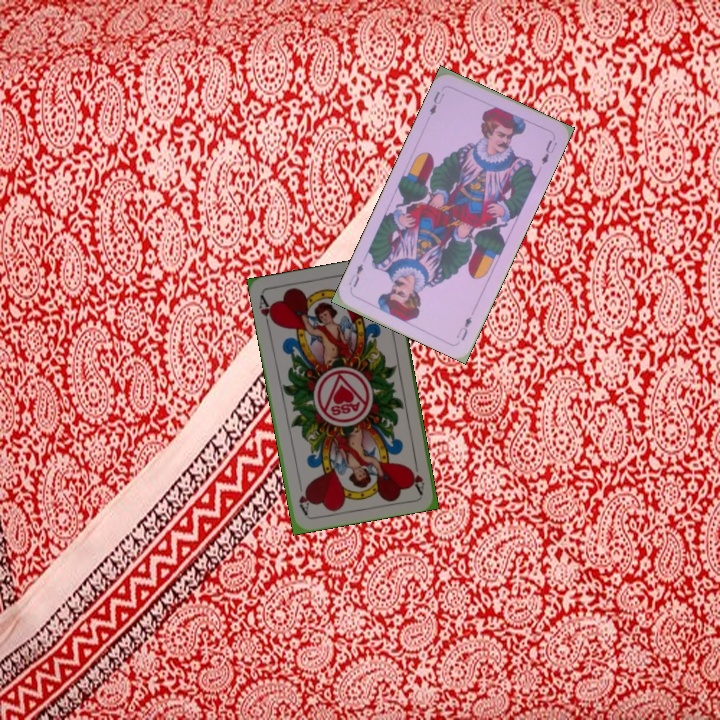EU: (425, 87, 447, 118), (452, 312, 474, 343)
HA: (255, 291, 278, 331), (407, 455, 427, 495)
